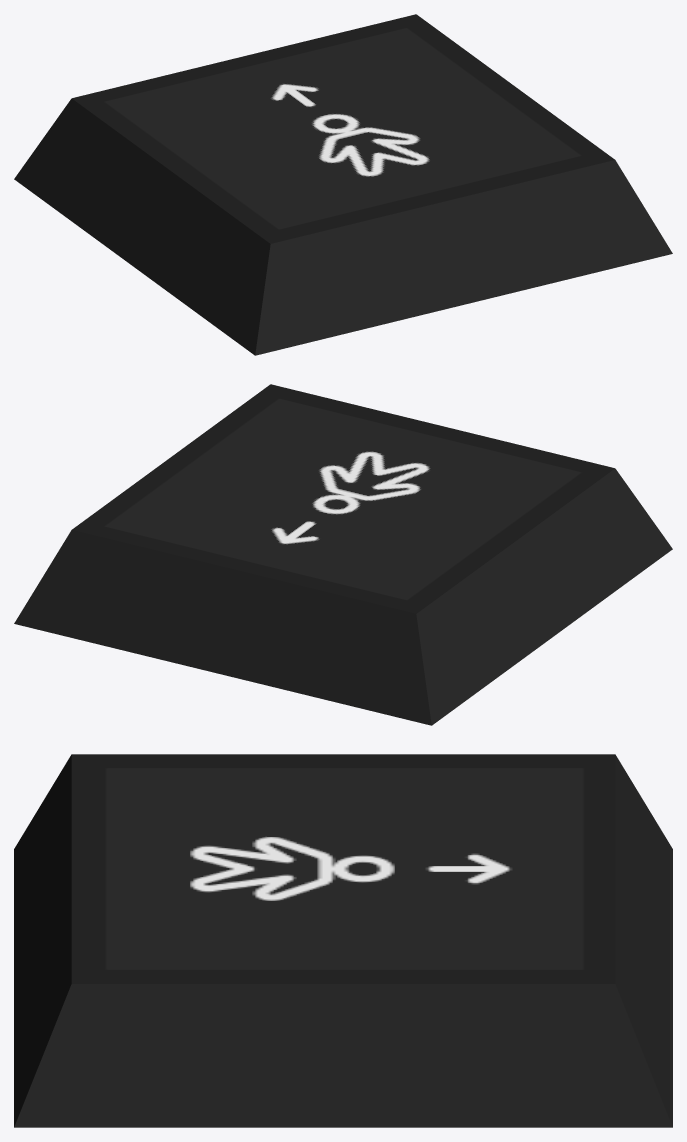
Rendered from spawn-block.glb.
3 views of the same model, one above another, from view 1: azimuth 30°, elevation 25°; view 2: azimuth 150°, elevation 25°; view 3: azimuth 270°, elevation 25° (orthographic). The views are drawn at different scales.
Parts seen in each view (by area): view 1: Spawn; view 2: Spawn; view 3: Spawn.
Part boxes in pixels (x1,y1,x2,y2): Spawn: (14,14,672,355); Spawn: (14,384,672,725); Spawn: (14,754,672,1127).
Bounding box in the file's own units: 1 × 0.2 × 1.
1 material, 1 textured.
